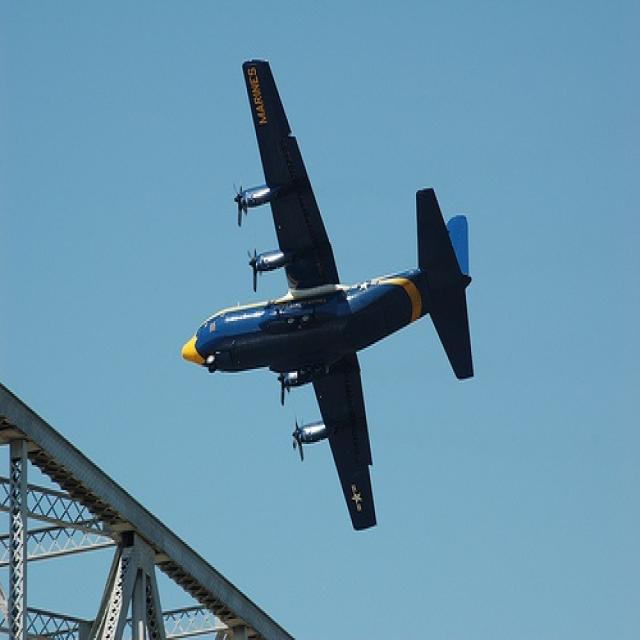aeroplane: (183, 61, 475, 532)
